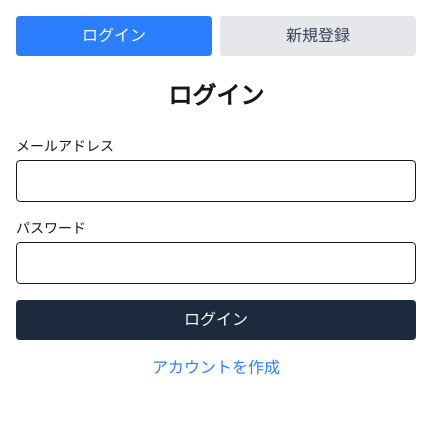
AuthForm Component › ログインフォーム › should display error message on login failure
The width and height of the screenshot is (433, 428).
Type "test@example.com" into the field labelled "メールアドレス" at (216, 181), box [16,160,416,202]
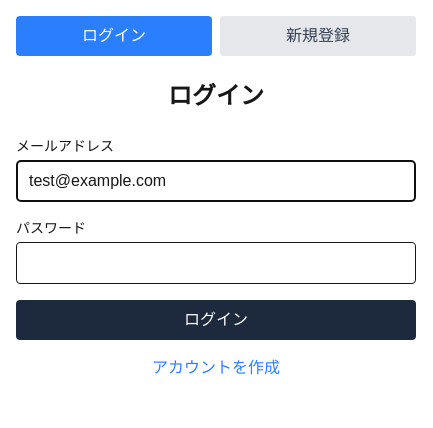
Type "WrongPassword" into the password field labelled "パスワード" at (216, 263), box [16,242,416,284]
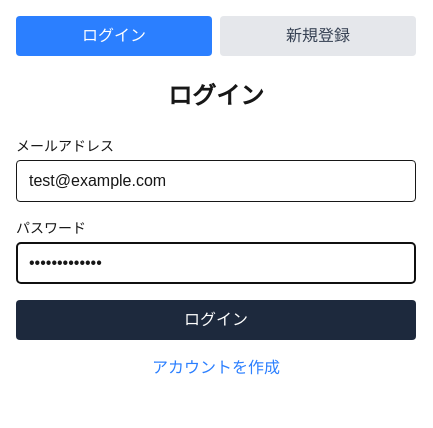
Click the button with test id "login-button" at (216, 320), box [16,300,416,340]
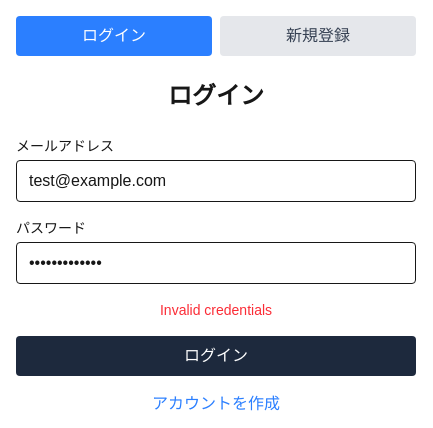
Check: the text "Invalid credentials" is shown, box [160,302,272,318]
